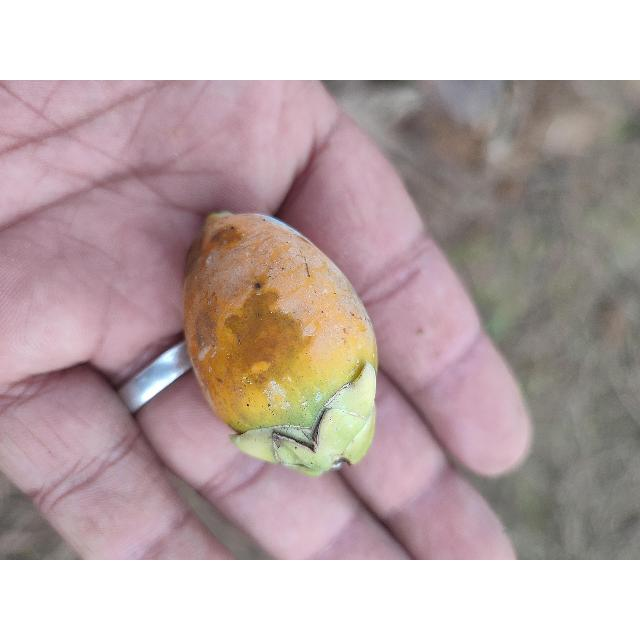good: (182, 213, 380, 478)
